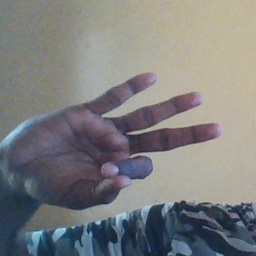K: (8, 70, 224, 210)
